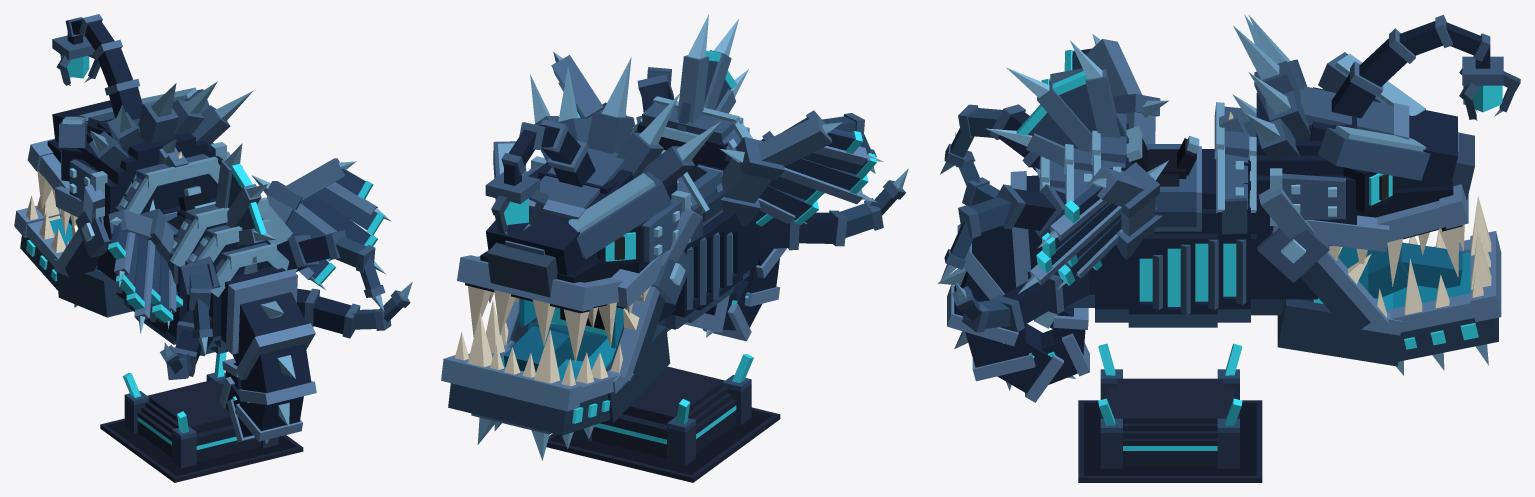
File: SeahorseRocker10.obj
3 renders of one model, left to right at view 1: azimuth 30°, elevation 25°; view 2: azimuth 150°, elevation 25°; view 3: azimuth 270°, elevation 25°, orthographic. The views are drawn at different scales.
Parts seen in each view (by area): view 1: Head, Body, Stand, Jaw, WingR, WingL, Lure, T2, T3, T1, Fan, T4 (+9 smaller); view 2: Head, Jaw, Stand, WingL, Body, Lure, Fan, LoL1, LoL2, WingR, T5, T4 (+4 smaller); view 3: Head, Body, Jaw, Stand, WingR, Lure, Fan, WingL, T2, LoR1, UpR1, T4 (+10 smaller).
Part boxes in pixels (box(x1,y1,x2,y2)): Head: box(27, 81, 253, 281); Body: box(115, 139, 297, 355); Stand: box(100, 352, 303, 482); Jaw: box(14, 189, 132, 317); WingR: box(251, 158, 391, 290); WingL: box(108, 199, 182, 333); Lure: box(52, 14, 142, 119); T2: box(232, 292, 315, 380); T3: box(238, 343, 316, 404); T1: box(221, 256, 297, 354); Fan: box(215, 143, 276, 247); T4: box(235, 396, 303, 441); Head: box(457, 57, 721, 362); Jaw: box(441, 251, 692, 460); Stand: box(546, 354, 780, 482); WingL: box(715, 115, 883, 226); Body: box(631, 96, 758, 331); Lure: box(485, 119, 595, 234); Fan: box(677, 14, 748, 131); LoL1: box(758, 210, 847, 250); LoL2: box(837, 168, 908, 237); WingR: box(551, 52, 606, 130); T5: box(703, 280, 761, 341); T4: box(743, 258, 779, 306); Head: box(1233, 14, 1474, 315); Body: box(1039, 94, 1256, 327); Jaw: box(1257, 196, 1501, 375); Stand: box(1078, 343, 1262, 482); WingR: box(1017, 160, 1168, 294); Lure: box(1331, 15, 1520, 120); Fan: box(985, 40, 1128, 166); WingL: box(1041, 34, 1168, 143); T2: box(957, 224, 1016, 300); LoR1: box(991, 270, 1089, 332); UpR1: box(996, 184, 1066, 237); T4: box(954, 324, 1035, 381).
Bounding box in the file's own units: 27.98 × 33.61 × 41.86.
Materials: 1 (1 with a texture image).
